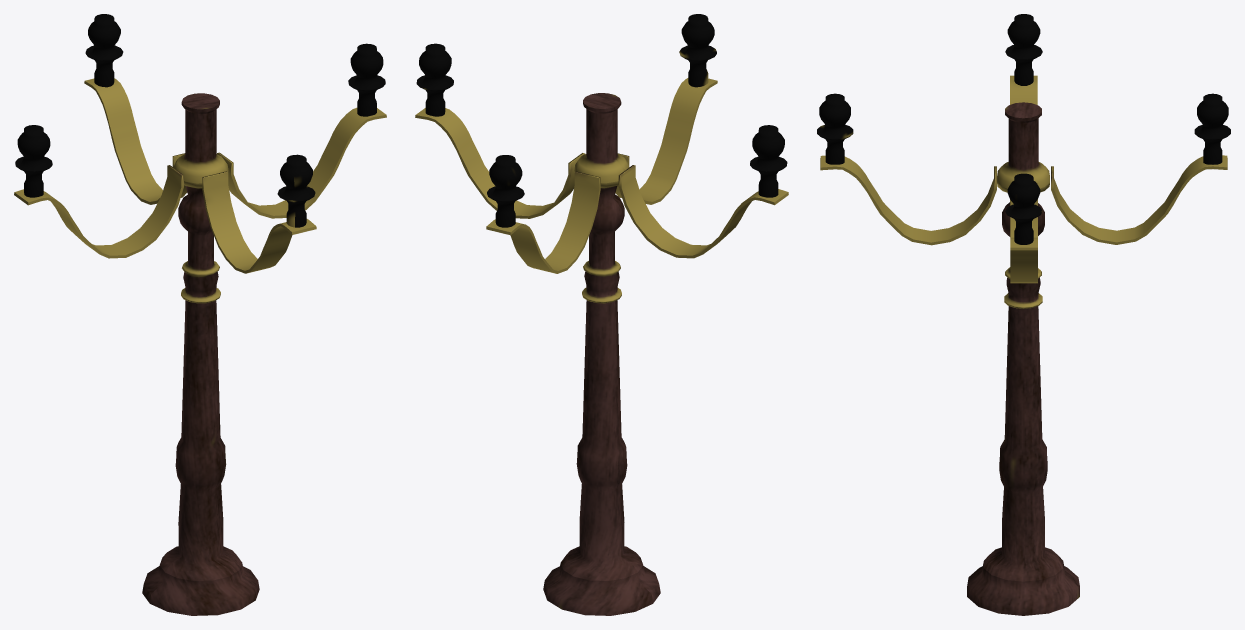
File: candelabra_small 1.fbx
3 renders of one model, left to right at view 1: azimuth 30°, elevation 25°; view 2: azimuth 150°, elevation 25°; view 3: azimuth 270°, elevation 25°, orthographic.
Parts seen in each view (by area): view 1: candelabra_Small; view 2: candelabra_Small; view 3: candelabra_Small.
Boxes of the visible parts, x1,y1,x2,y2 form: candelabra_Small: [14, 14, 386, 615]; candelabra_Small: [415, 14, 788, 615]; candelabra_Small: [817, 14, 1230, 615].
Size of the model in its own units: 48.86 by 64.3 by 48.86.
